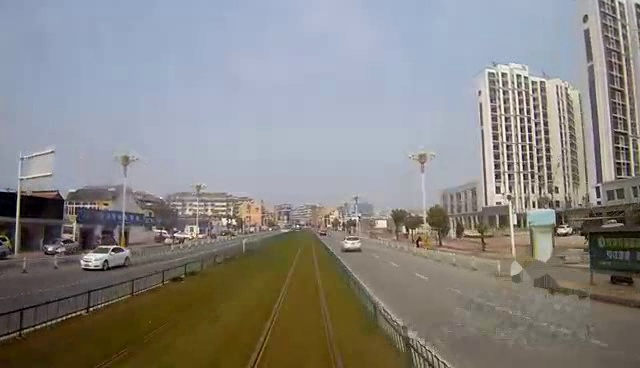car: (82, 241, 136, 273), (44, 235, 85, 259), (341, 235, 365, 255)
